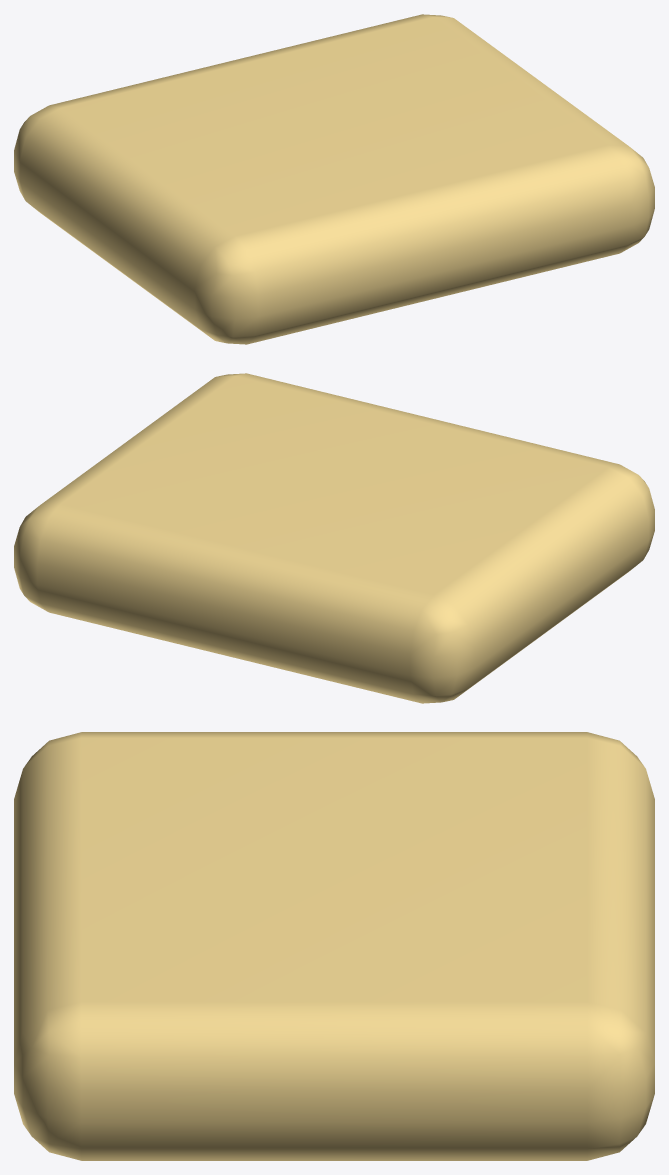
The model's file is Cushion.fbx.
3 views of the same model, one above another, from view 1: azimuth 30°, elevation 25°; view 2: azimuth 150°, elevation 25°; view 3: azimuth 270°, elevation 25° (orthographic). The views are drawn at different scales.
Visible parts, largest first — view 1: Cushion; view 2: Cushion; view 3: Cushion.
Boxes of the visible parts, x1,y1,x2,y2 form: Cushion: (14,14,654,344); Cushion: (14,373,654,703); Cushion: (14,732,654,1160).
Size of the model in its own units: 45 by 10 by 38.
